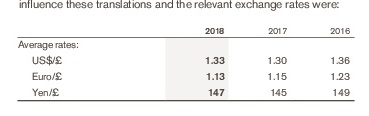table: (0, 0, 369, 116)
